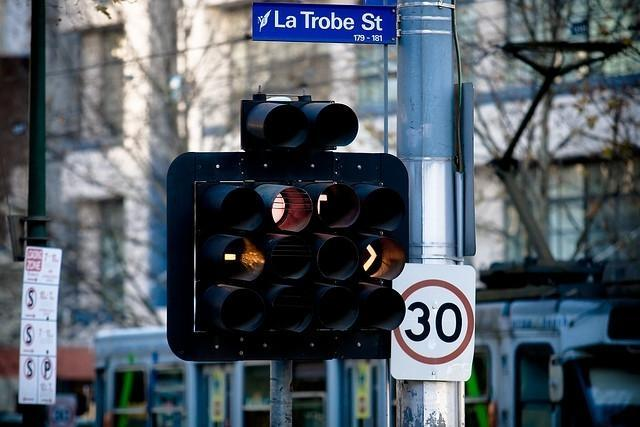bus: (91, 298, 640, 423)
